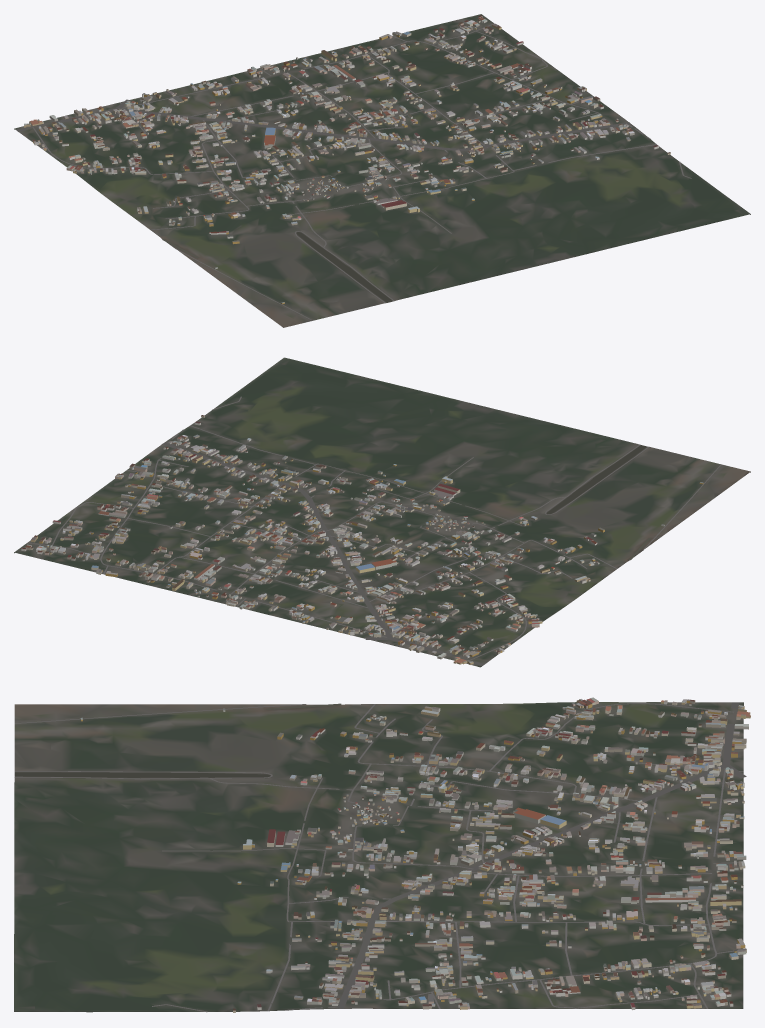
3 renders of one model, top to bottom at view 1: azimuth 30°, elevation 25°; view 2: azimuth 150°, elevation 25°; view 3: azimuth 270°, elevation 25°, orthographic. The views are drawn at different scales.
Visible parts, largest first — view 1: ground, buildings, roads, water; view 2: ground, buildings, roads, water; view 3: ground, buildings, roads, water.
Part boxes in pixels (x1,y1,x2,y2): ground: (14, 14, 750, 327); buildings: (24, 15, 670, 304); roads: (16, 23, 691, 320); water: (162, 232, 392, 302); ground: (14, 357, 750, 667); buildings: (21, 415, 703, 664); roads: (27, 396, 721, 665); water: (546, 445, 650, 560); ground: (14, 702, 743, 1012); buildings: (80, 697, 750, 1012); roads: (14, 702, 746, 1012); water: (15, 703, 341, 777).
Bounding box in the file's own units: 1412 × 20.96 × 1416.
